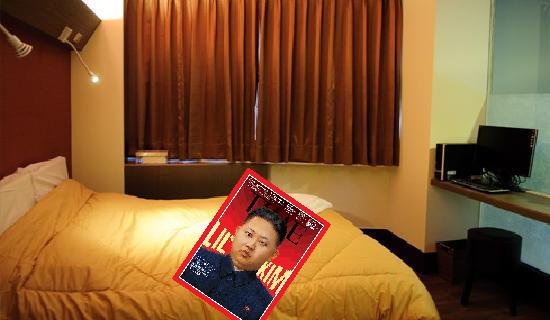times: (168, 166, 337, 320)
